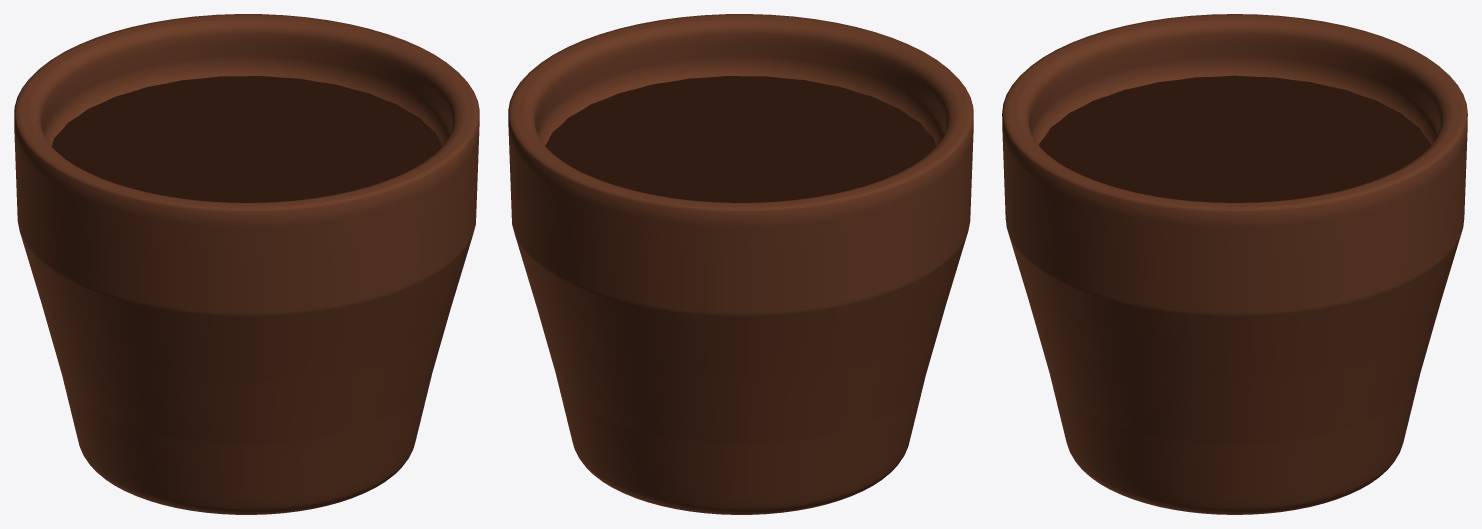
File: Pot.fbx
The picture shows the model from 3 angles, left to right: view 1: azimuth 30°, elevation 25°; view 2: azimuth 150°, elevation 25°; view 3: azimuth 270°, elevation 25°; orthographic projection.
Visible parts, largest first — view 1: Pot; view 2: Pot; view 3: Pot.
Part boxes in pixels (<box>): Pot: <box>14,14,479,514</box>; Pot: <box>508,14,973,514</box>; Pot: <box>1002,14,1467,514</box>.
Size of the model in its own units: 35.17 by 28.19 by 35.17.
